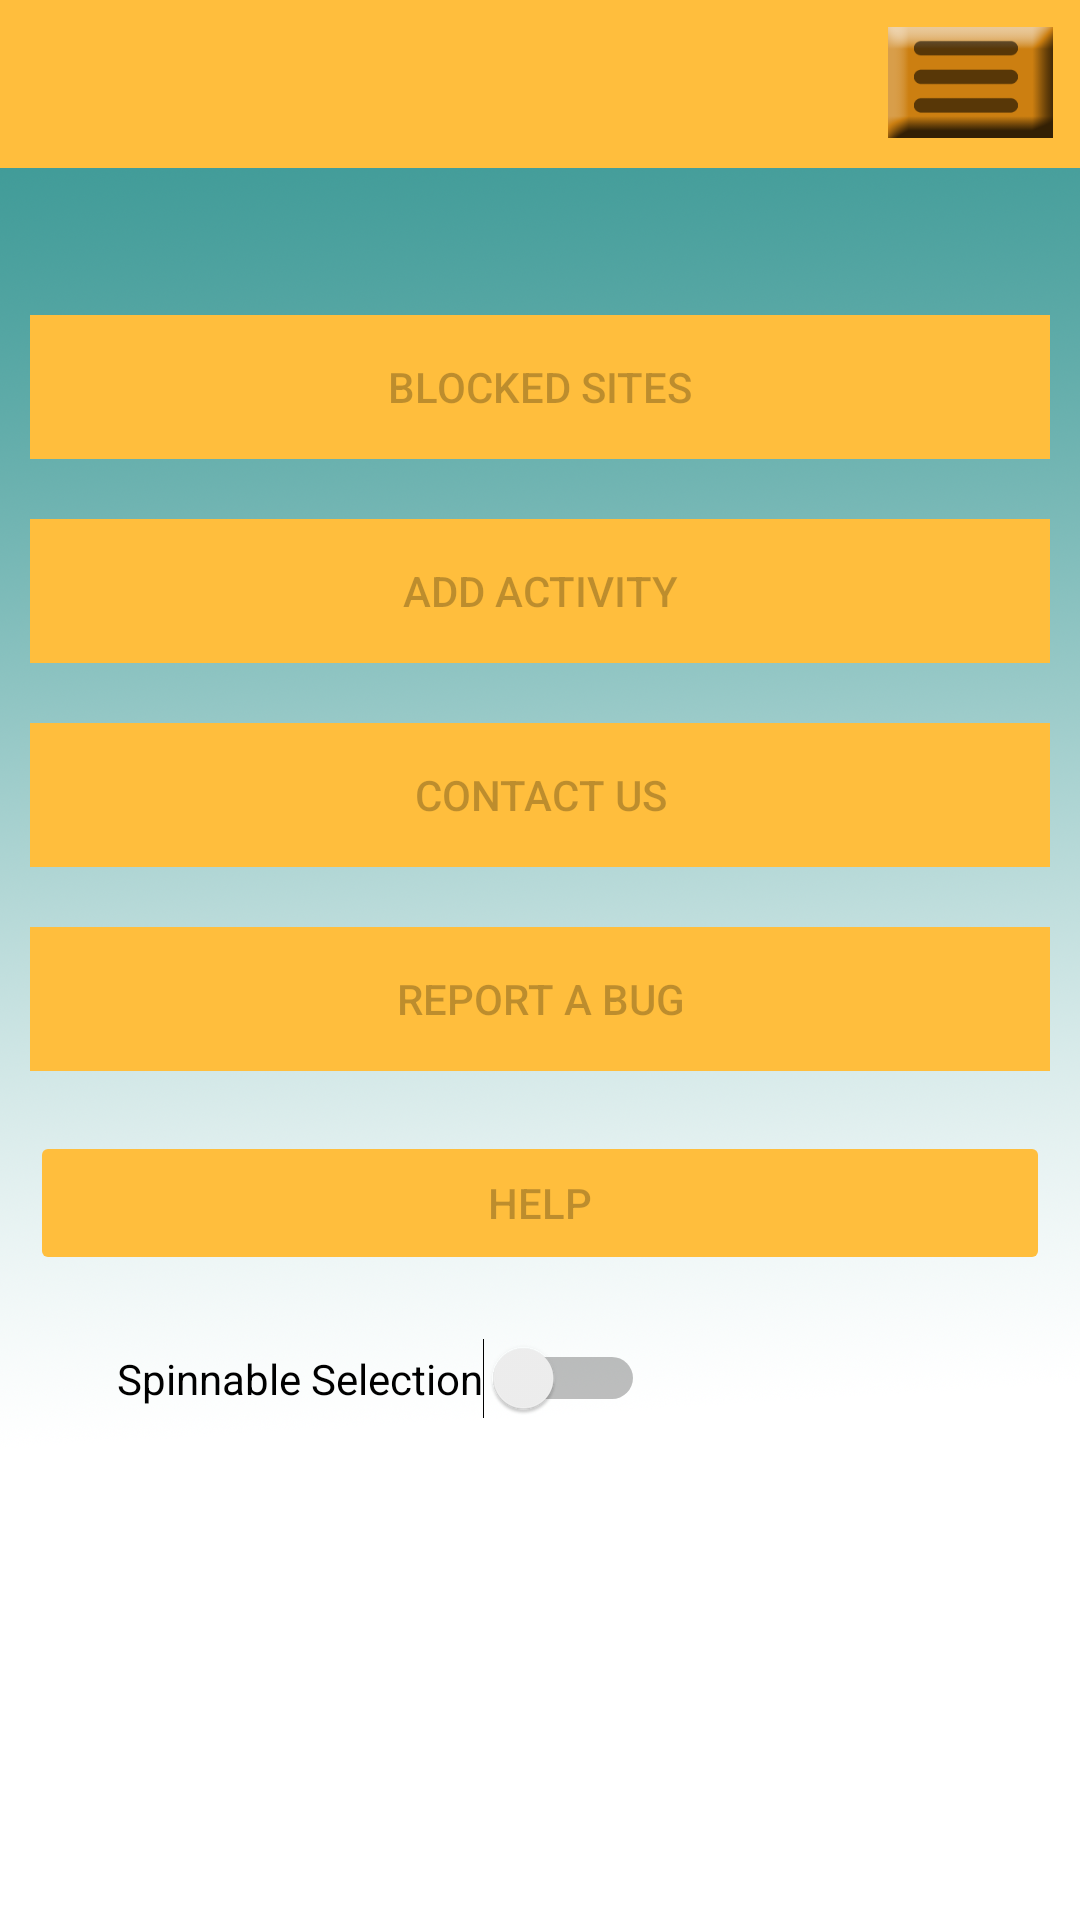

Screen size 1080*1920. Icon name, then its center in pixels as (x,y):
menue action: (970,82)
